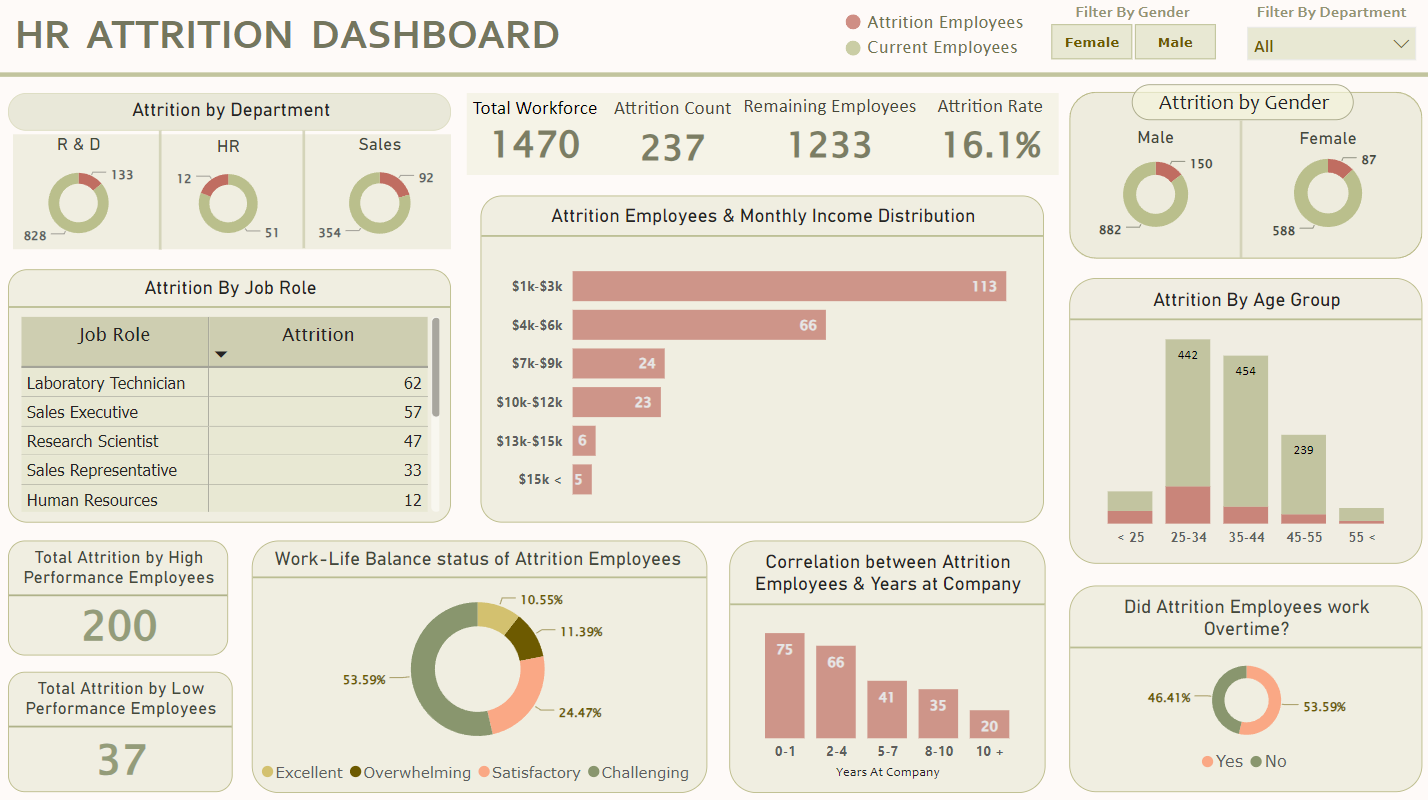

The dashboard page shown, as its layout file describes it:
{"tool":"powerbi","page":{"name":"Page 1","canvas":[1280,720],"ordinal":0},"visuals":[{"type":"textbox","box":[0,8.6,524.2,58],"z":0},{"type":"shape","box":[0,66.5,1280,11.7],"z":1000},{"type":"shape","box":[958.3,88.2,314.5,148.6],"z":2000,"group":"g4"},{"type":"textbox","box":[13.6,88.8,394.7,33.3],"z":2000},{"type":"columnChart","title":"Attrition By Age Group","fields":{"Category":["HR-Employee-Attrition.Age Group"],"Y":["All measures (2).attrition_emp","All measures (2).current_emp"]},"box":[958.3,254.1,314.5,254.1],"z":2000,"group":"g1"},{"type":"columnChart","title":"Correlation between Attrition Employees & Years at Company","fields":{"Category":["HR-Employee-Attrition.years at company"],"Y":["All measures (2).attrition_emp"]},"box":[654.9,487.2,281.2,224.5],"z":3000},{"type":"donutChart","title":"Male ","fields":{"Y":["All measures (2).male_attrition","All measures (2).male"]},"box":[958.3,119.3,154.2,103.1],"z":4000,"group":"g4"},{"type":"group","id":"g1","title":"Group 3","box":[958.3,254.1,314.5,254.1],"z":4000},{"type":"card","title":"Total Workforce","fields":{"Values":["Sum(HR-Employee-Attrition.EmployeeCount)"]},"box":[421.8,91.1,121.9,65],"z":5000,"group":"g2"},{"type":"card","title":"Total Attrition by High Performance Employees","fields":{"Values":["All measures (2).high performance"]},"box":[13.6,487.2,196.1,102.4],"z":5000},{"type":"card","title":"Attrition Count","fields":{"Values":["Sum(HR-Employee-Attrition.attrition_rate)"]},"box":[543.1,91.1,124.3,71.7],"z":6000,"group":"g2"},{"type":"donutChart","title":"Female","fields":{"Y":["All measures (2).female_attrition","All measures (2).female"]},"box":[1117.3,120.3,142.9,103],"z":6000,"group":"g4"},{"type":"donutChart","title":"HR","fields":{"Y":["All measures (2).department_hr_curr","All measures (2).department_hr_attr"]},"box":[153,127,112.1,101.2],"z":6000,"group":"g3"},{"type":"card","title":"Total Attrition by Low Performance Employees","fields":{"Values":["All measures (2).low performance"]},"box":[13.6,604.4,199.8,107.3],"z":6000},{"type":"card","title":"Attrition Rate","fields":{"Values":["All measures (2).attrition %"]},"box":[825.3,88.8,124.3,69.5],"z":7000,"group":"g2"},{"type":"donutChart","title":"R & D","fields":{"Y":["All measures (2).department_r&d_attr","All measures (2).department_r&d_curr"]},"box":[17.3,125.8,117,102.4],"z":7000,"group":"g3"},{"type":"tableEx","title":"Attrition By Job Role","fields":{"Values":["HR-Employee-Attrition.JobRole","All measures (2).attrition_emp"]},"box":[13.6,245.4,394.7,225.7],"z":7000},{"type":"card","title":"Remaining Employees","fields":{"Values":["All measures (2).current_emp"]},"box":[662,88.8,165.8,70.6],"z":8000,"group":"g2"},{"type":"donutChart","title":"Sales","fields":{"Y":["All measures (2).department_sales_attr","All measures (2).department_sales_curr"]},"box":[280,125.8,128.3,102.4],"z":8000,"group":"g3"},{"type":"barChart","title":"Attrition Employees & Monthly Income Distribution","fields":{"Category":["HR-Employee-Attrition.salary distribution"],"Y":["All measures (2).attrition_emp"]},"box":[434.2,180.1,502,291.1],"z":8000},{"type":"textbox","box":[1013.8,81.4,197.3,32.4],"z":9000,"group":"g4"},{"type":"donutChart","title":"Did Attrition Employees work Overtime?","fields":{"Category":["HR-Employee-Attrition.OverTime"],"Y":["All measures (2).attrition_emp"]},"box":[958.3,527.9,314.5,183.8],"z":9000},{"type":"donutChart","title":"Work-Life Balance status of Attrition Employees","fields":{"Category":["HR-Employee-Attrition.work life balance status"],"Y":["All measures (2).attrition_emp"]},"box":[230.6,487.2,405.8,224.5],"z":10000},{"type":"group","id":"g2","title":"Group 2","box":[421.8,88.8,527.9,74],"z":11000},{"type":"group","id":"g3","title":"Group 1","box":[17.3,125.8,391,102.4],"z":12000},{"type":"shape","box":[263.9,122.1,25.9,104.8],"z":13000},{"type":"shape","box":[134.4,122.1,28.4,106.1],"z":14000},{"type":"group","id":"g4","title":"Group 4","box":[958.3,81.4,314.5,155.4],"z":15000},{"type":"slicer","title":"Filter By Gender","fields":{"Values":["HR-Employee-Attrition.Gender"]},"box":[921.3,7.4,186.2,58],"z":16000},{"type":"slicer","title":"Filter By Department","fields":{"Values":["HR-Employee-Attrition.Department"]},"box":[1111.3,7.4,160.3,59.2],"z":17000},{"type":"shape","box":[1095.2,113.3,32.1,123.5],"z":17000,"group":"g4"},{"type":"textbox","box":[773.3,9.9,159.1,56.7],"z":18000},{"type":"shape","box":[758.5,41.9,13.6,13.6],"z":19000},{"type":"shape","box":[758.5,18.5,13.6,13.6],"z":20000}]}

Visuals, with their boxes in screenshot pixels (x1, y1, x2, y2), scaled from the page's 1280x720 canvas onto the 1428x800 screenshot:
textbox: detection(0, 10, 585, 74)
shape: detection(0, 74, 1427, 87)
shape: detection(1069, 98, 1420, 263)
textbox: detection(15, 99, 456, 136)
"Attrition By Age Group" columnChart: detection(1069, 282, 1420, 565)
"Correlation between Attrition Employees & Years at Company" columnChart: detection(731, 541, 1044, 791)
"Male " donutChart: detection(1069, 133, 1241, 247)
"Group 3" group: detection(1069, 282, 1420, 565)
"Total Workforce" card: detection(471, 101, 607, 173)
"Total Attrition by High Performance Employees" card: detection(15, 541, 234, 655)
"Attrition Count" card: detection(606, 101, 745, 181)
"Female" donutChart: detection(1246, 134, 1406, 248)
"HR" donutChart: detection(171, 141, 296, 254)
"Total Attrition by Low Performance Employees" card: detection(15, 672, 238, 791)
"Attrition Rate" card: detection(921, 99, 1059, 176)
"R & D" donutChart: detection(19, 140, 150, 254)
"Attrition By Job Role" tableEx: detection(15, 273, 456, 523)
"Remaining Employees" card: detection(739, 99, 924, 177)
"Sales" donutChart: detection(312, 140, 456, 254)
"Attrition Employees & Monthly Income Distribution" barChart: detection(484, 200, 1044, 524)
textbox: detection(1131, 90, 1351, 126)
"Did Attrition Employees work Overtime?" donutChart: detection(1069, 587, 1420, 791)
"Work-Life Balance status of Attrition Employees" donutChart: detection(257, 541, 710, 791)
"Group 2" group: detection(471, 99, 1060, 181)
"Group 1" group: detection(19, 140, 456, 254)
shape: detection(294, 136, 323, 252)
shape: detection(150, 136, 182, 254)
"Group 4" group: detection(1069, 90, 1420, 263)
"Filter By Gender" slicer: detection(1028, 8, 1236, 73)
"Filter By Department" slicer: detection(1240, 8, 1419, 74)
shape: detection(1222, 126, 1258, 263)
textbox: detection(863, 11, 1040, 74)
shape: detection(846, 47, 861, 62)
shape: detection(846, 21, 861, 36)
